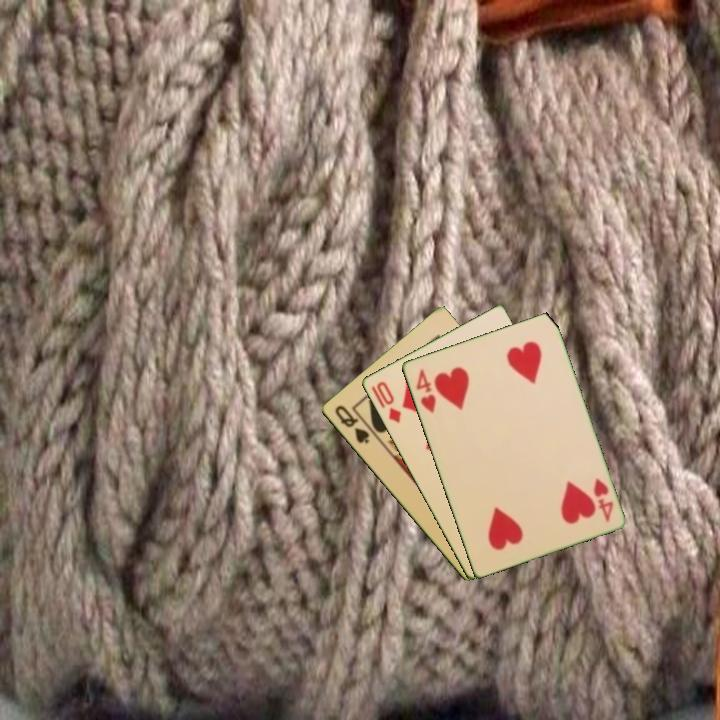10d: (367, 378, 404, 426)
4h: (589, 475, 616, 525), (412, 365, 438, 416)
Qs: (331, 401, 372, 447)
